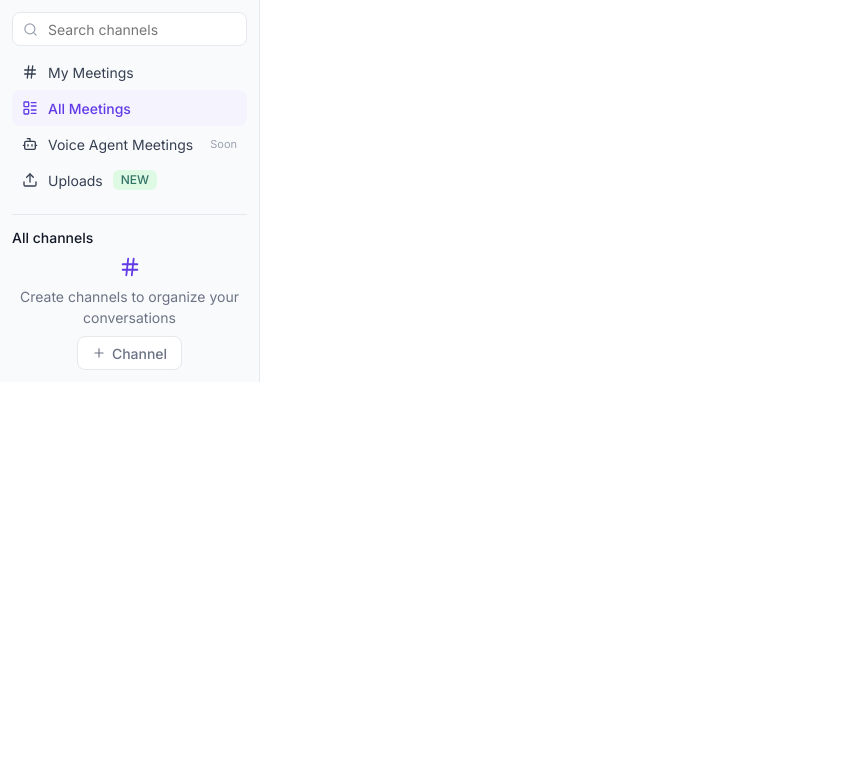
Test: ChannelList › explains coming-soon channels instead of switching to them
The width and height of the screenshot is (856, 768).
Click the button "Voice Agent Meetings Soon" at (130, 144), box [12,126,247,162]
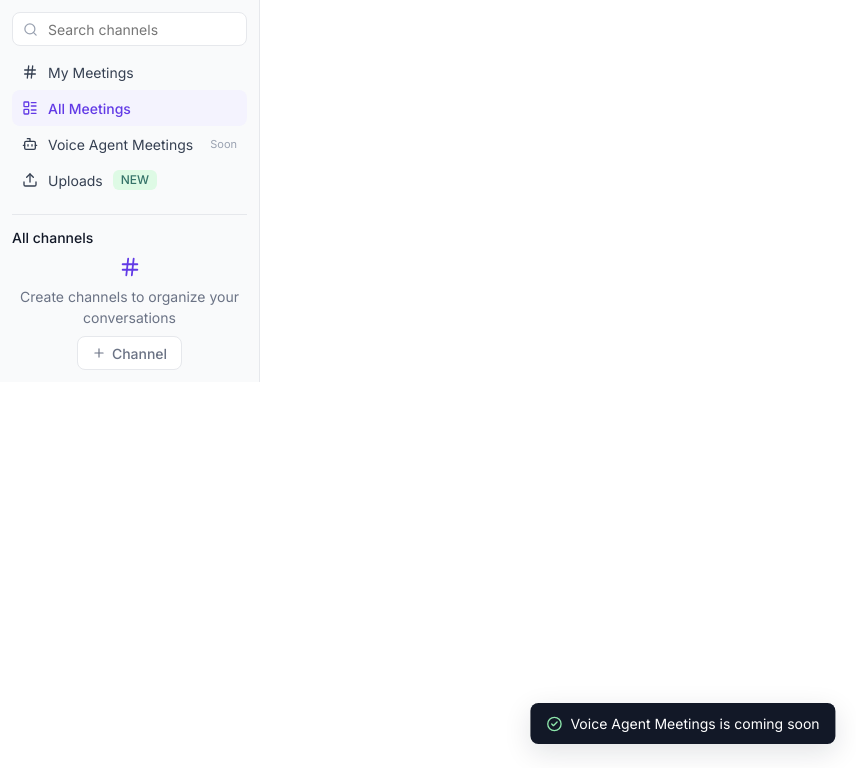
Click the button "Channel" at (130, 353), box [77,336,182,370]
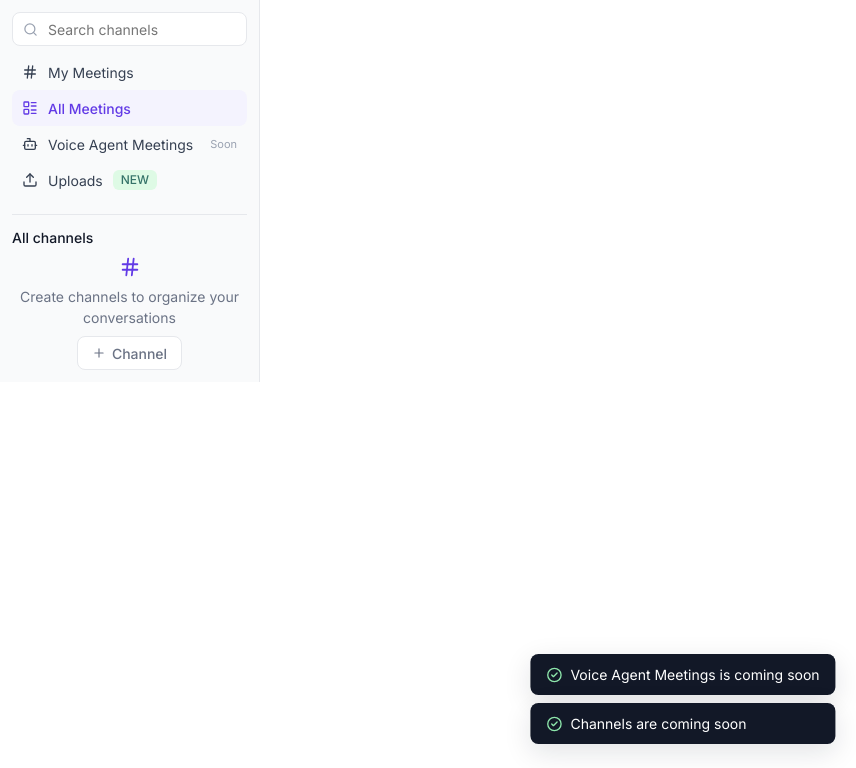
Check: the message shows "Voice Agent Meetings is coming soon", box [570,666,820,683]
Check: the message shows "Channels are coming soon", box [570,715,746,732]
